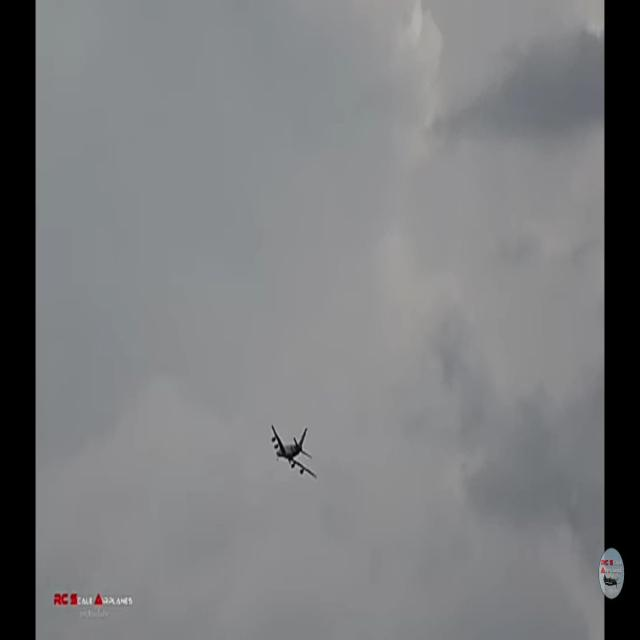iha: (270, 423, 318, 480)
